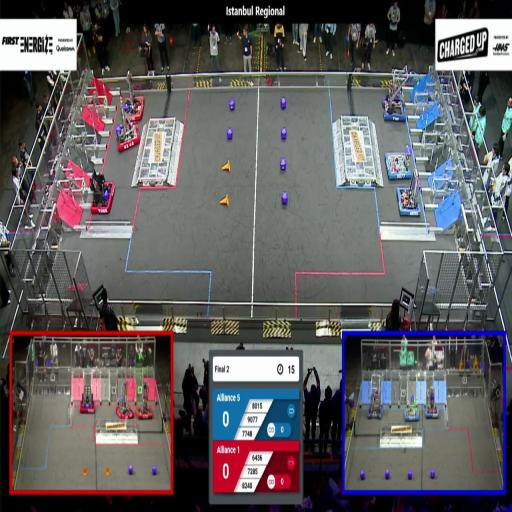robot: (382, 64, 410, 124), (113, 99, 142, 152), (396, 170, 423, 220), (88, 171, 117, 214), (123, 71, 147, 122), (384, 144, 414, 184), (367, 373, 385, 421), (115, 379, 135, 421), (136, 378, 154, 422), (424, 384, 442, 422), (79, 384, 96, 414), (403, 393, 420, 423)
